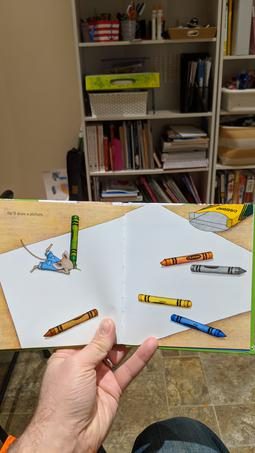text block: (5, 204, 54, 220)
